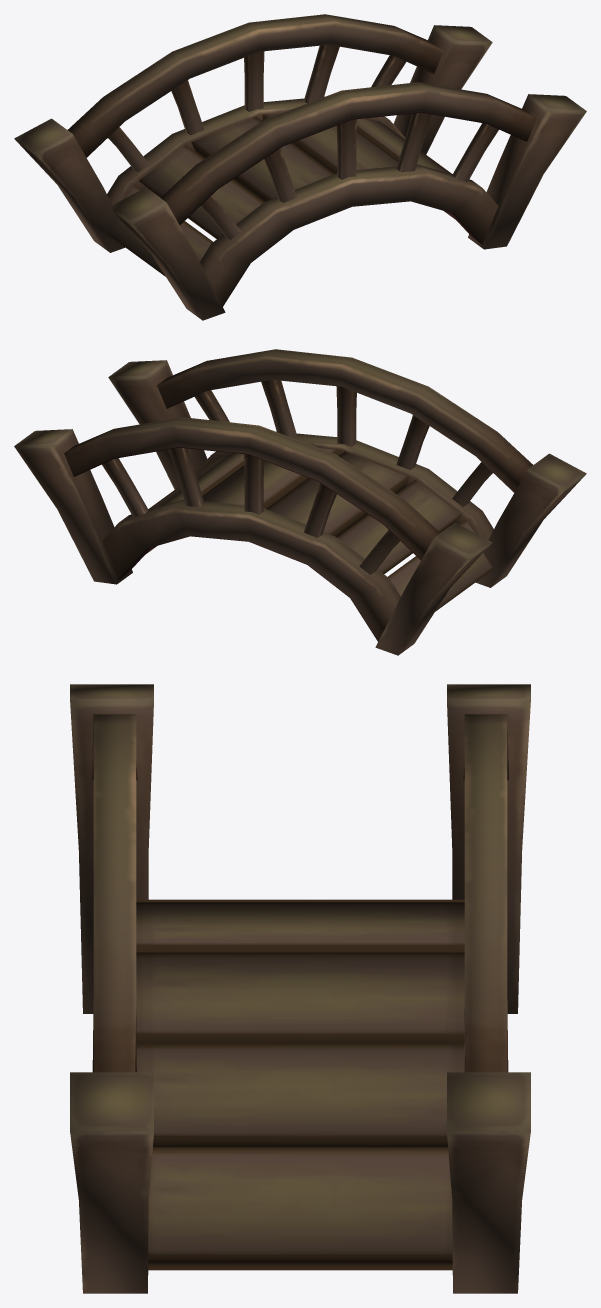
The model's file is BridgeA.fbx.
3 views of the same model, one above another, from view 1: azimuth 30°, elevation 25°; view 2: azimuth 150°, elevation 25°; view 3: azimuth 270°, elevation 25° (orthographic). The views are drawn at different scales.
Parts seen in each view (by area): view 1: BridgeA_001; view 2: BridgeA_001; view 3: BridgeA_001.
Part boxes in pixels (bbox=[...]): BridgeA_001: bbox=[14, 14, 586, 320]; BridgeA_001: bbox=[14, 349, 586, 655]; BridgeA_001: bbox=[70, 684, 530, 1293].
Bounding box in the file's own units: 229 × 87.63 × 99.86.
